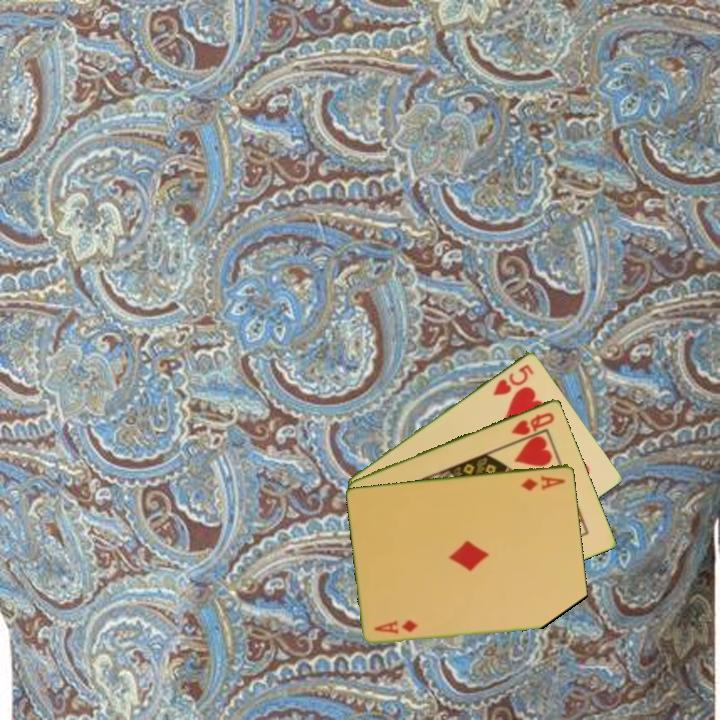5h: (489, 360, 537, 398)
Ad: (517, 471, 568, 493), (371, 616, 421, 637)
Qh: (508, 408, 557, 438)
